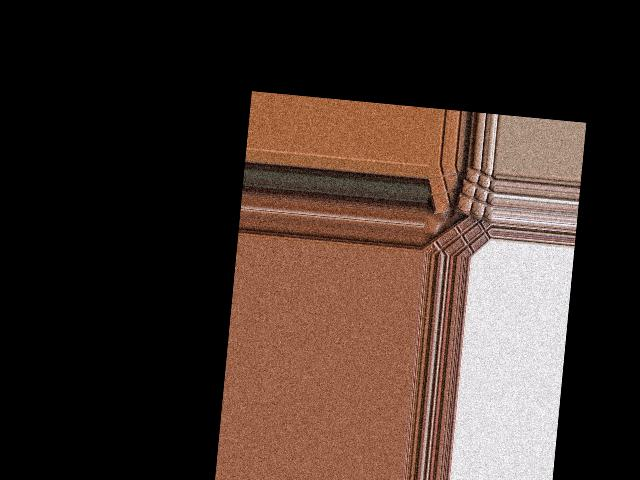chocolate: (428, 163, 472, 216)
